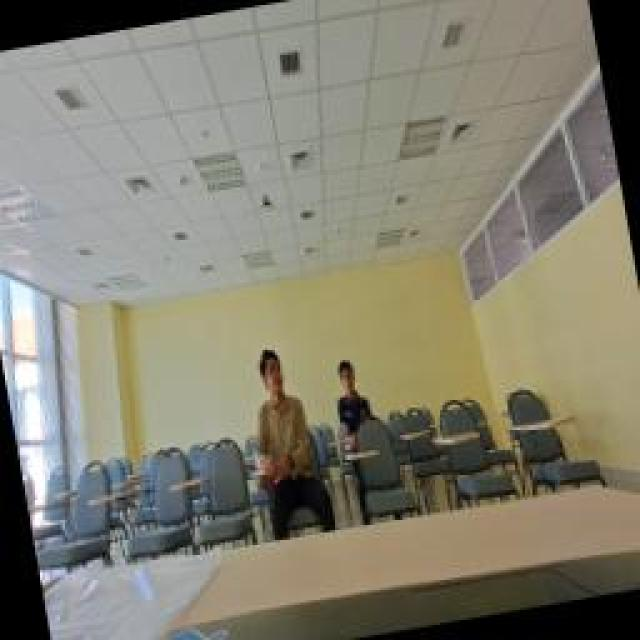study: (238, 340, 340, 545), (328, 350, 382, 455)
